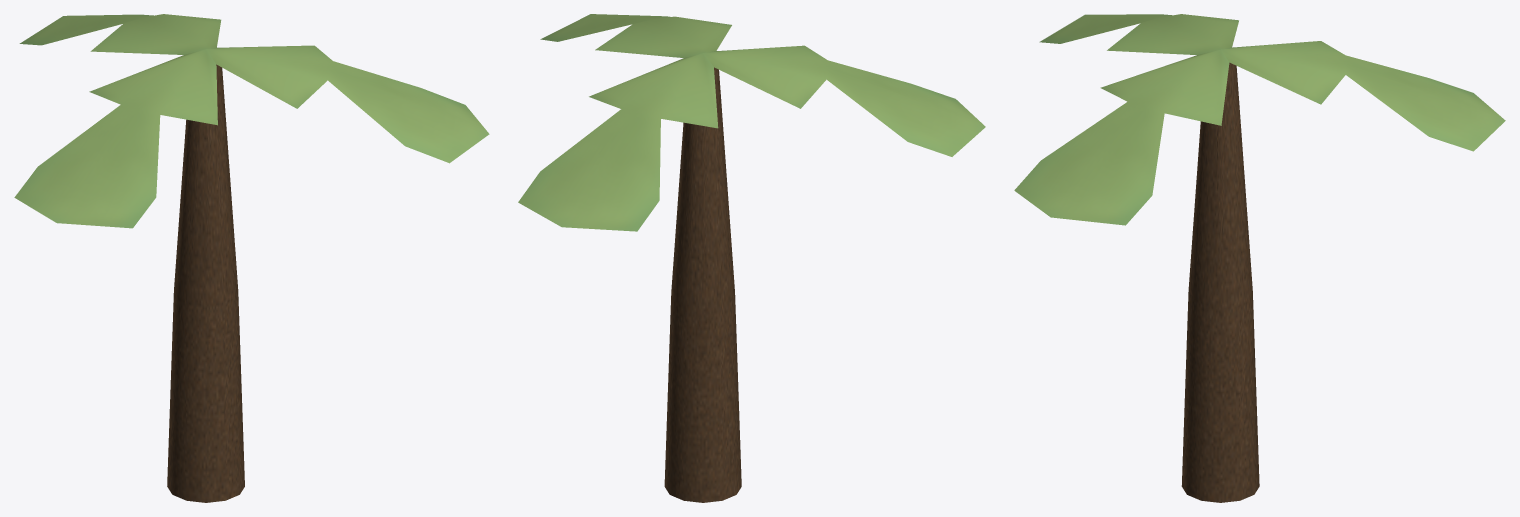
Rendered from tree.dae.
3 views of the same model, side by side, from view 1: azimuth 30°, elevation 25°; view 2: azimuth 150°, elevation 25°; view 3: azimuth 270°, elevation 25° (orthographic).
Parts seen in each view (by area): view 1: tree; view 2: tree; view 3: tree.
Part boxes in pixels (left/top/right/bottom): tree: left=14, top=14, right=489, bottom=502; tree: left=518, top=14, right=985, bottom=502; tree: left=1014, top=14, right=1505, bottom=502.
Size of what is drawn, in the model's own units: 4.91 by 4.83 by 4.73.
Materials: 2 (2 with a texture image).
